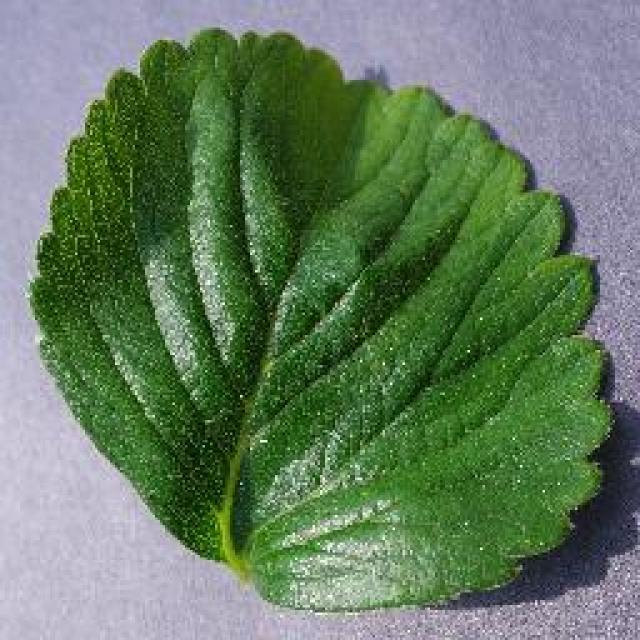Strawberry___healthy: (10, 5, 625, 630)
